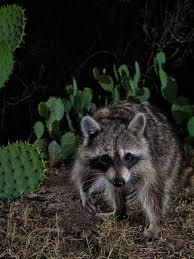raccoon: (63, 92, 190, 248)
